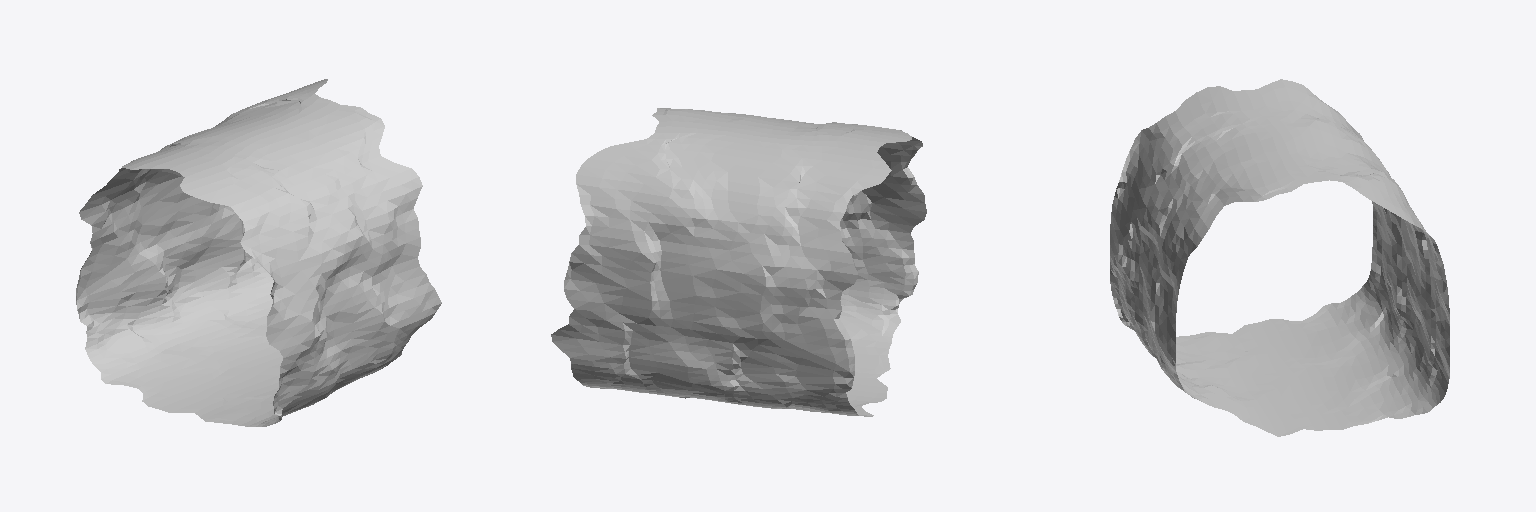
Rendered from cave5.obj.
3 views of the same model, side by side, from view 1: azimuth 30°, elevation 25°; view 2: azimuth 150°, elevation 25°; view 3: azimuth 270°, elevation 25° (orthographic).
Parts seen in each view (by area): view 1: Cube.005; view 2: Cube.005; view 3: Cube.005.
Part boxes in pixels (x1,y1,x2,y2): Cube.005: (76,79,441,426); Cube.005: (551,108,926,416); Cube.005: (1110,79,1449,436).
Size of the model in its own units: 2.25 by 1.92 by 2.48.